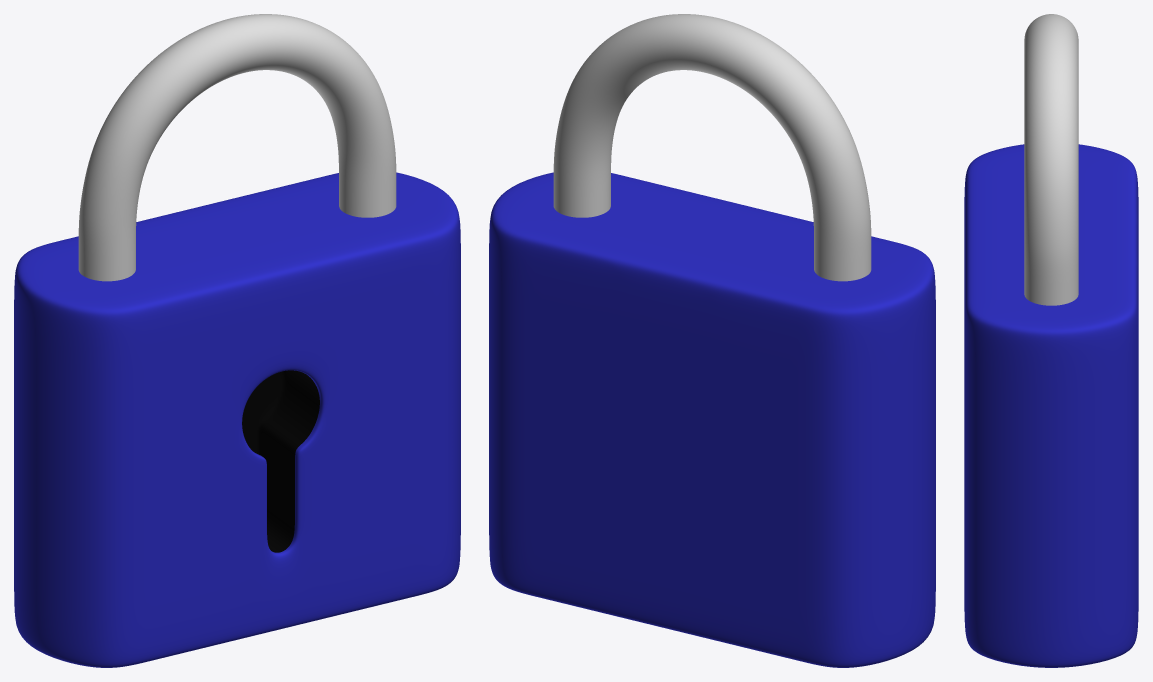
The model's file is lock.fbx.
The picture shows the model from 3 angles, left to right: view 1: azimuth 30°, elevation 25°; view 2: azimuth 150°, elevation 25°; view 3: azimuth 270°, elevation 25°; orthographic projection. The views are drawn at different scales.
Parts seen in each view (by area): view 1: Cube.038; view 2: Cube.038; view 3: Cube.038.
Boxes of the visible parts, <box> form: Cube.038: <box>14,14,460,667</box>; Cube.038: <box>489,14,935,667</box>; Cube.038: <box>964,14,1138,667</box>.
Bounding box in the file's own units: 144 × 190 × 55.04.
